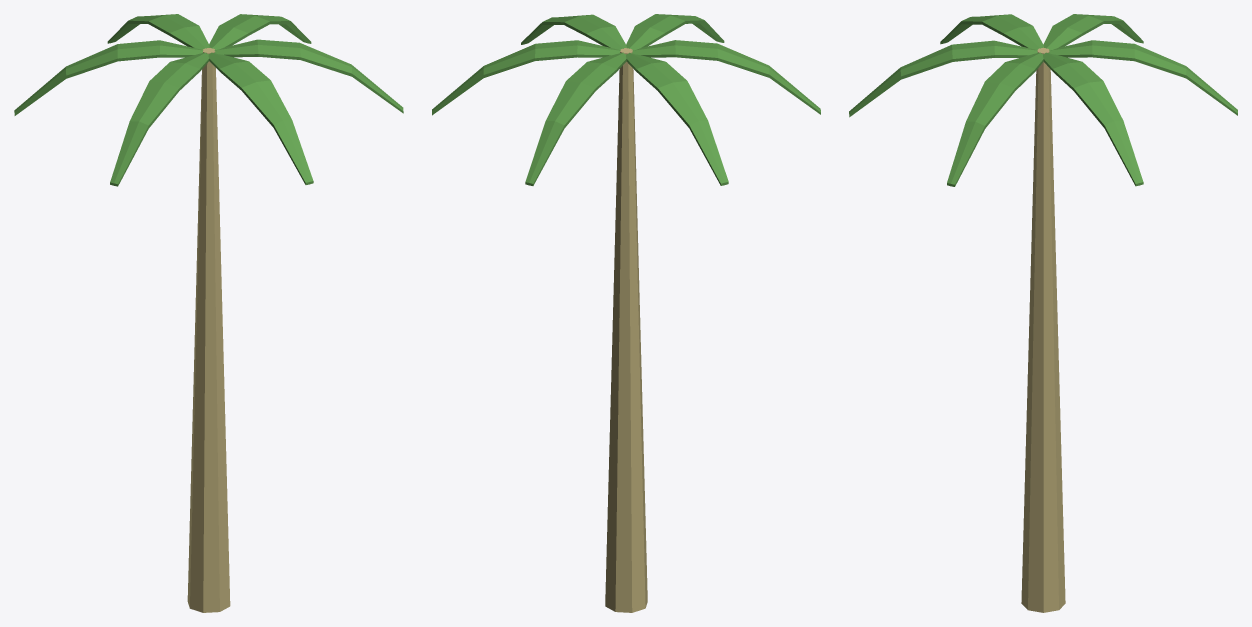
Rendered from Palm Tree001.fbx.
3 renders of one model, left to right at view 1: azimuth 30°, elevation 25°; view 2: azimuth 150°, elevation 25°; view 3: azimuth 270°, elevation 25°, orthographic.
Parts seen in each view (by area): view 1: Cube; view 2: Cube; view 3: Cube.
Part boxes in pixels (left/top/right/bottom): Cube: left=14, top=14, right=403, bottom=612; Cube: left=432, top=14, right=820, bottom=612; Cube: left=849, top=14, right=1237, bottom=612.
Size of the model in its own units: 1050 by 1878 by 1185.
